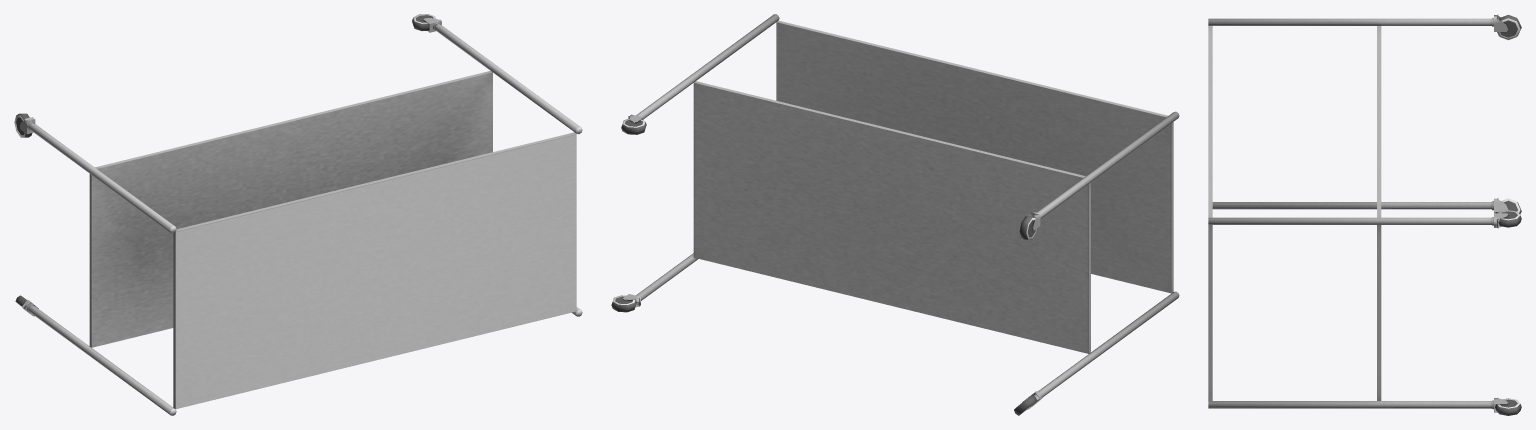
The model's file is SurgicalTrolleyMed_visual.obj.
3 views of the same model, side by side, from view 1: azimuth 30°, elevation 25°; view 2: azimuth 150°, elevation 25°; view 3: azimuth 270°, elevation 25° (orthographic).
Visible parts, largest first — view 1: SurgicalTrolley; view 2: SurgicalTrolley; view 3: SurgicalTrolley.
Part boxes in pixels (x1,y1,x2,y2): SurgicalTrolley: (14,14,582,415); SurgicalTrolley: (611,14,1179,415); SurgicalTrolley: (1208,14,1521,415).
Bounding box in the file's own units: 1.11 × 0.5045 × 0.7007.
1 material, 1 textured.
